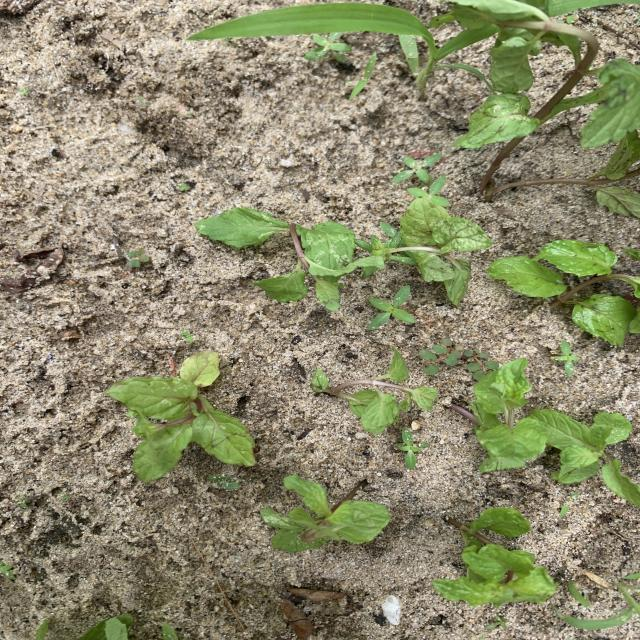crop: (452, 0, 640, 218), (457, 357, 639, 504), (107, 352, 255, 482), (197, 207, 355, 309), (488, 241, 639, 345), (355, 197, 491, 304), (485, 130, 639, 217), (433, 508, 555, 606), (313, 346, 438, 433), (261, 476, 391, 551), (80, 615, 131, 639)
weed: (188, 3, 500, 95), (556, 581, 639, 629), (368, 286, 415, 328), (523, 0, 640, 16), (420, 340, 471, 371), (393, 154, 441, 183), (407, 176, 448, 207), (305, 33, 350, 61), (348, 53, 375, 99), (397, 429, 428, 468), (552, 341, 579, 374), (465, 351, 497, 377), (568, 582, 590, 606), (208, 475, 239, 490), (126, 249, 149, 266), (560, 492, 577, 515), (486, 615, 507, 629), (0, 561, 15, 579), (182, 329, 192, 342), (178, 183, 190, 191), (15, 499, 27, 507), (506, 108, 511, 113)
